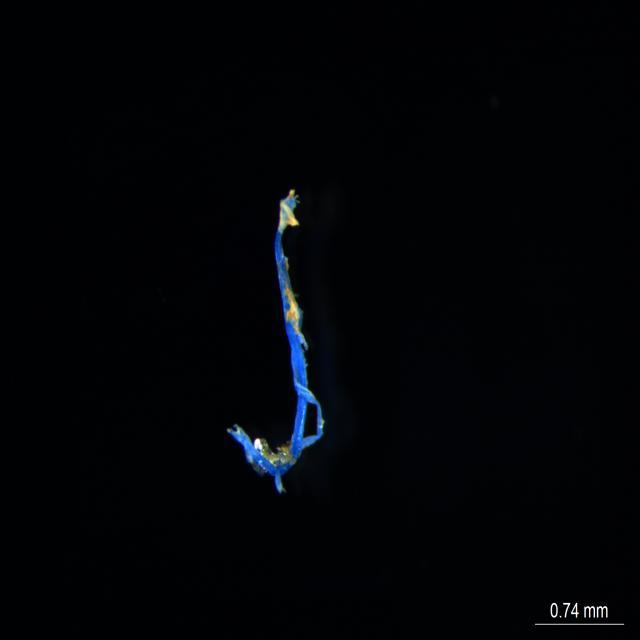fibers: (221, 185, 349, 496)
